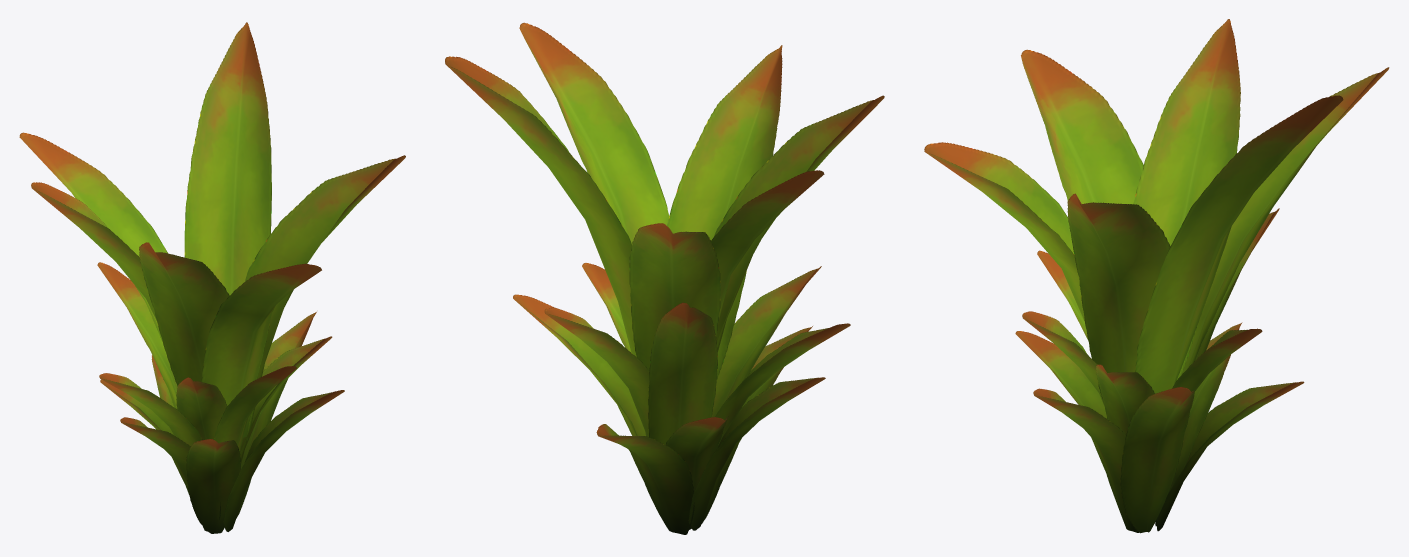
The model's file is Plant_1_Big.gltf.
3 views of the same model, side by side, from view 1: azimuth 30°, elevation 25°; view 2: azimuth 150°, elevation 25°; view 3: azimuth 270°, elevation 25° (orthographic). The views are drawn at different scales.
Visible parts, largest first — view 1: Plant_1_Big; view 2: Plant_1_Big; view 3: Plant_1_Big.
Part boxes in pixels (<box>): Plant_1_Big: <box>19,22,405,533</box>; Plant_1_Big: <box>445,22,884,534</box>; Plant_1_Big: <box>924,19,1389,533</box>.
Bounding box in the file's own units: 1.81 × 2.35 × 1.95.
1 material, 1 textured.
